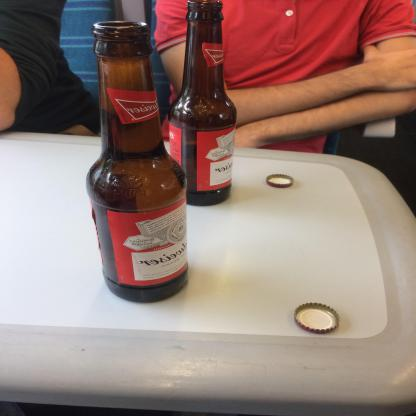cam: (84, 20, 189, 304), (168, 0, 232, 206)
metal: (293, 302, 341, 334), (266, 174, 294, 188)
